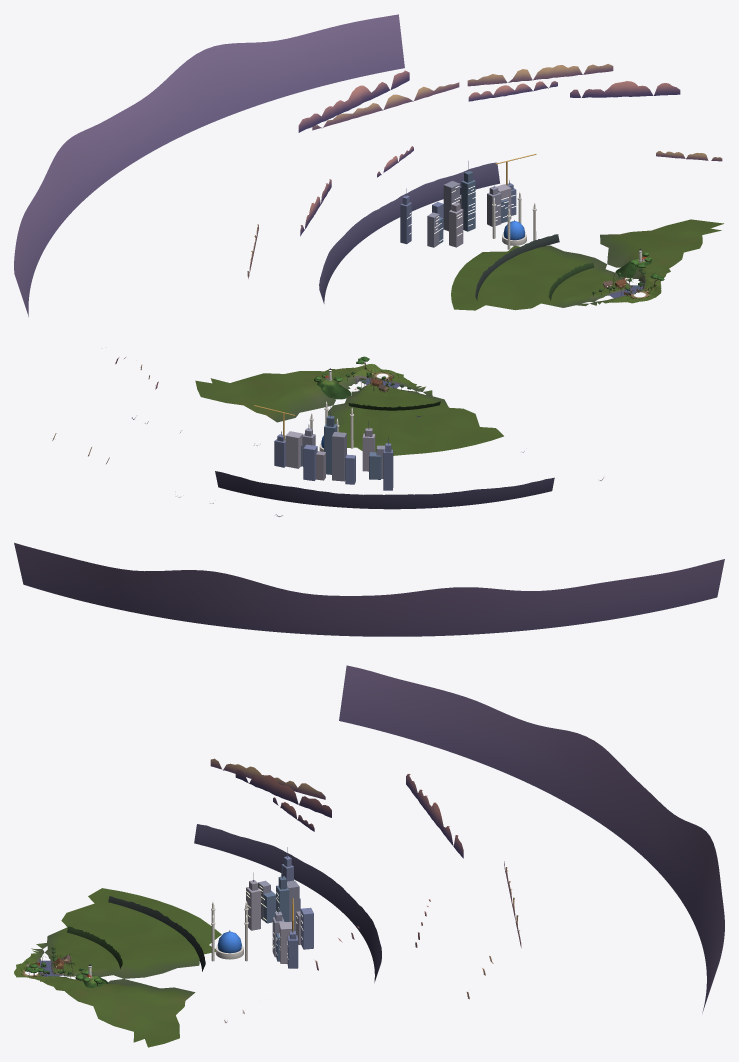
The model's file is arena_selangor.glb.
The picture shows the model from 3 angles, top to bottom: view 1: azimuth 30°, elevation 25°; view 2: azimuth 150°, elevation 25°; view 3: azimuth 270°, elevation 25°; orthographic projection. The views are drawn at different scales.
Visible parts, largest first — view 1: EnvFar_MatLeaf_canopy, EnvFar_MatPlaster_white, EnvFar_MatGround_yard, EnvBattle_MatGround_yard; view 2: EnvFar_MatLeaf_canopy, EnvFar_MatGround_yard, EnvFar_MatPlaster_white, EnvBattle_MatGround_yard; view 3: EnvFar_MatLeaf_canopy, EnvFar_MatGround_yard, EnvFar_MatPlaster_white.
Part boxes in pixels (<box>): EnvFar_MatLeaf_canopy: <box>14,14,651,316</box>; EnvFar_MatPlaster_white: <box>247,64,722,283</box>; EnvFar_MatGround_yard: <box>451,219,723,310</box>; EnvBattle_MatGround_yard: <box>610,277,661,303</box>; EnvFar_MatLeaf_canopy: <box>14,371,724,636</box>; EnvFar_MatGround_yard: <box>195,367,503,455</box>; EnvFar_MatPlaster_white: <box>52,357,603,516</box>; EnvBattle_MatGround_yard: <box>351,364,409,388</box>; EnvFar_MatLeaf_canopy: <box>51,665,724,1012</box>; EnvFar_MatGround_yard: <box>28,888,221,1047</box>; EnvFar_MatPlaster_white: <box>54,758,521,1022</box>.
Size of what is drawn, in the model's own units: 572 by 90.69 by 482.
